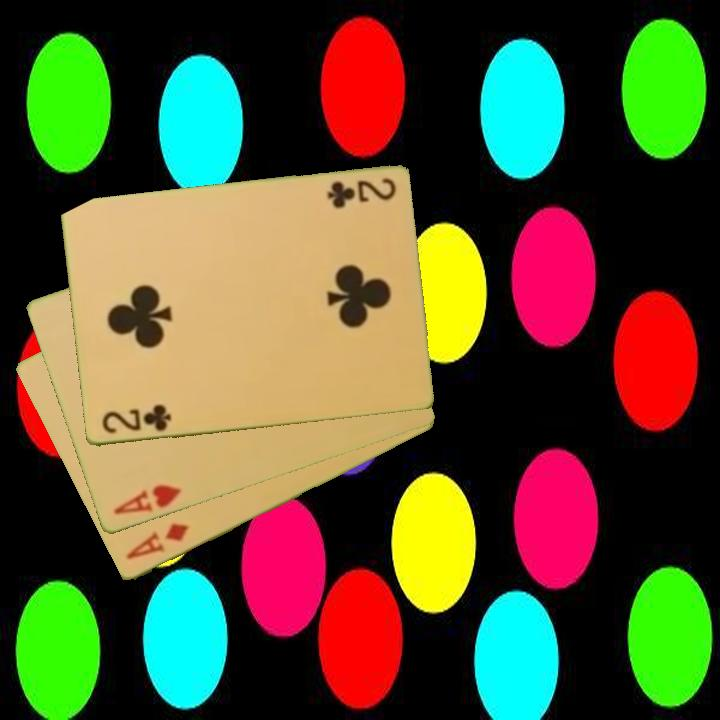2c: (98, 401, 174, 437), (323, 175, 399, 210)
Ad: (122, 520, 193, 563)
Ah: (110, 481, 184, 518)
